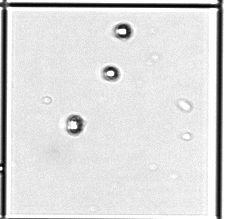Living Cell: (67, 115, 84, 135), (103, 65, 120, 82), (116, 23, 132, 39)
